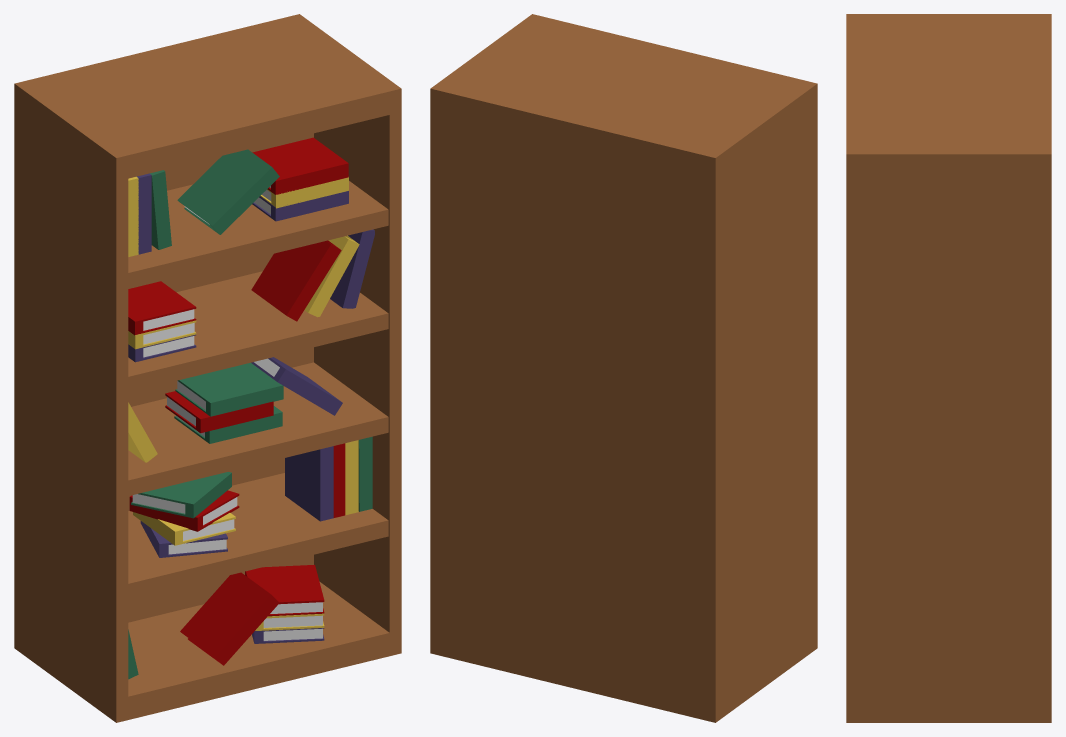
The model's file is ESTANTE.fbx.
3 renders of one model, left to right at view 1: azimuth 30°, elevation 25°; view 2: azimuth 150°, elevation 25°; view 3: azimuth 270°, elevation 25°, orthographic.
Visible parts, largest first — view 1: Cube.036; view 2: Cube.036; view 3: Cube.036.
Part boxes in pixels (<box>): Cube.036: <box>14,14,401,722</box>; Cube.036: <box>430,14,817,722</box>; Cube.036: <box>846,14,1051,722</box>.
Size of the model in its own units: 1194 by 2259 by 739.
